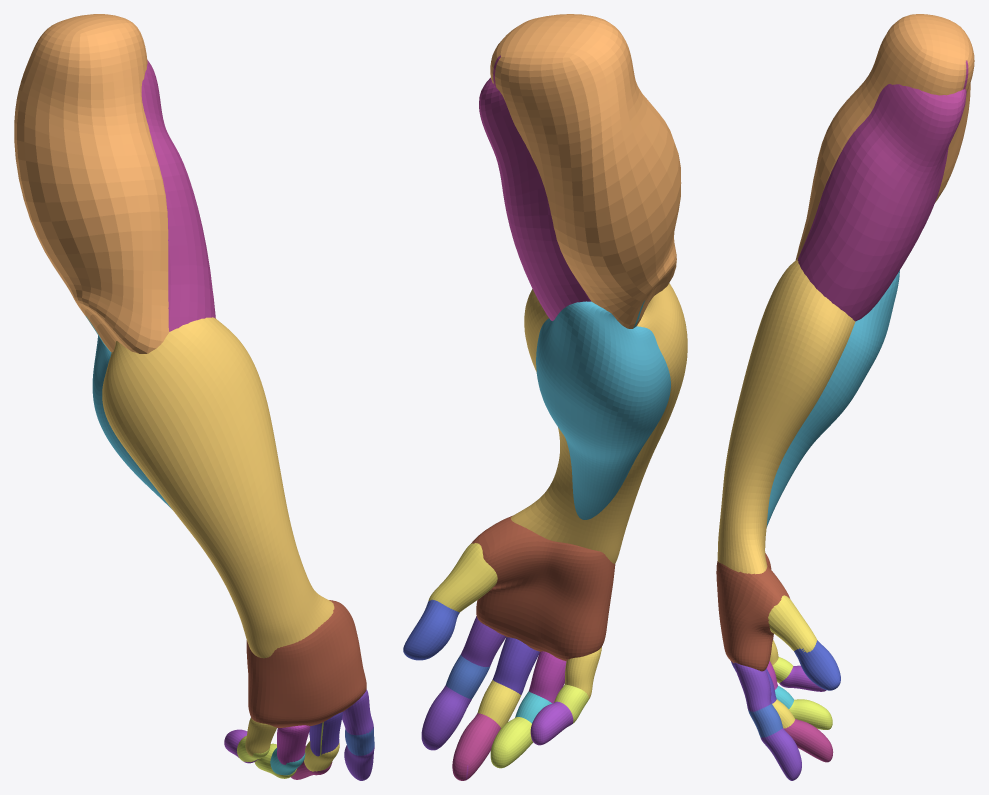
File: elbow.glb
3 renders of one model, left to right at view 1: azimuth 30°, elevation 25°; view 2: azimuth 150°, elevation 25°; view 3: azimuth 270°, elevation 25°, orthographic. The views are drawn at different scales.
Visible parts, largest first — view 1: WristArm, Object_98; view 2: WristArm, Object_98; view 3: WristArm, Object_98.
Boxes of the visible parts, left/top/right/bottom form: WristArm: left=92, top=317, right=374, bottom=780; Object_98: left=14, top=14, right=215, bottom=353; WristArm: left=403, top=283, right=687, bottom=780; Object_98: left=479, top=14, right=681, bottom=328; WristArm: left=716, top=259, right=899, bottom=780; Object_98: left=795, top=14, right=974, bottom=321.
Size of the model in its own units: 0.5925 by 1.55 by 0.5395.
Materials: 2 (2 with a texture image).
